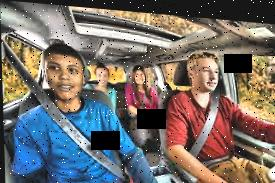seatbelt: (5, 38, 125, 183), (187, 73, 228, 162), (128, 69, 161, 126), (89, 79, 98, 89)
